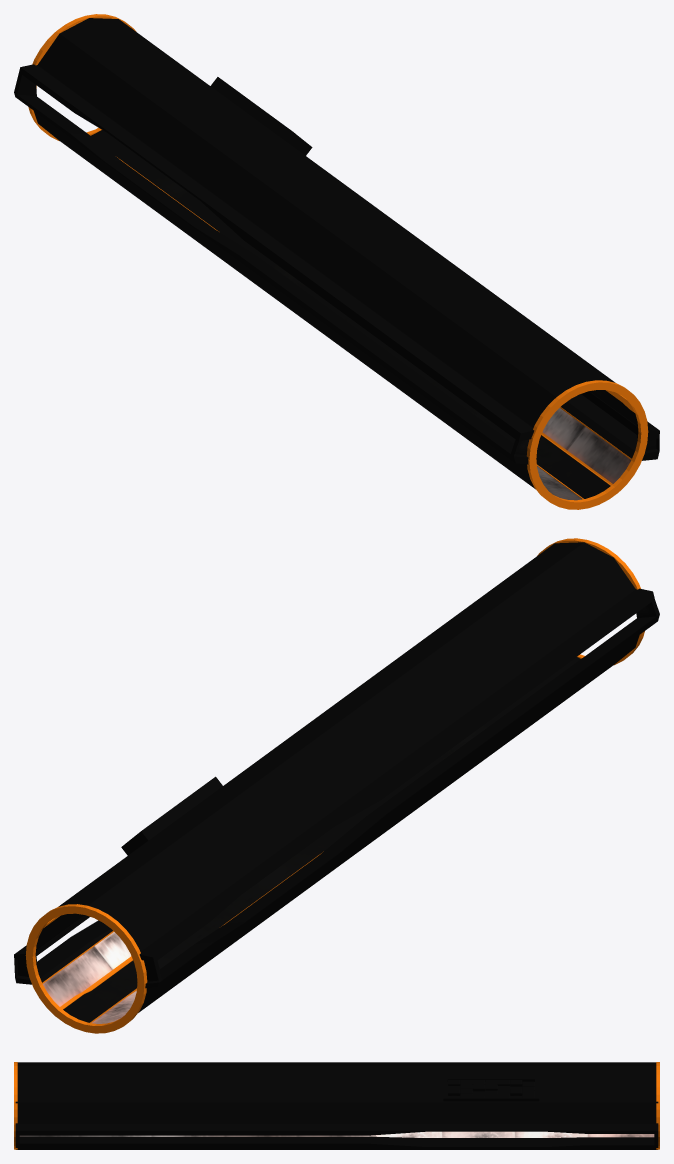
Rendered from Pipe 0 Win.fbx.
The picture shows the model from 3 angles, top to bottom: view 1: azimuth 30°, elevation 25°; view 2: azimuth 150°, elevation 25°; view 3: azimuth 270°, elevation 25°; orthographic projection. The views are drawn at different scales.
Visible parts, largest first — view 1: External, Faces black, Variable color object, Faces white, Cubes; view 2: External, Faces black, Variable color object, Faces white, Cubes; view 3: External, Faces black, Faces white, lvl2, Cubes, Variable color object, lvl1.
Part boxes in pixels (left/top/right/bottom): External: left=34, top=18, right=615, bottom=489; Faces black: left=14, top=64, right=659, bottom=498; Variable color object: left=28, top=14, right=648, bottom=509; Faces white: left=537, top=408, right=631, bottom=500; Cubes: left=210, top=77, right=312, bottom=155; External: left=58, top=542, right=639, bottom=1012; Faces black: left=14, top=588, right=659, bottom=1022; Variable color object: left=25, top=538, right=644, bottom=1033; Faces white: left=43, top=932, right=136, bottom=1023; Cubes: left=121, top=776, right=222, bottom=855; External: left=15, top=1062, right=658, bottom=1149; Faces black: left=15, top=1124, right=658, bottom=1147; Faces white: left=19, top=1131, right=654, bottom=1137; lvl2: left=448, top=1080, right=534, bottom=1097; Cubes: left=443, top=1078, right=539, bottom=1101; Variable color object: left=14, top=1062, right=659, bottom=1149; lvl1: left=448, top=1081, right=534, bottom=1097.
Bounding box in the file's own units: 134 × 109 × 800.
